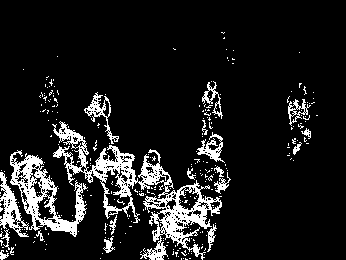person: (8, 150, 79, 240), (90, 144, 142, 249), (146, 185, 213, 260), (50, 119, 93, 221), (133, 148, 179, 242), (186, 127, 233, 192), (284, 81, 312, 162), (84, 89, 119, 141), (200, 79, 227, 141)
